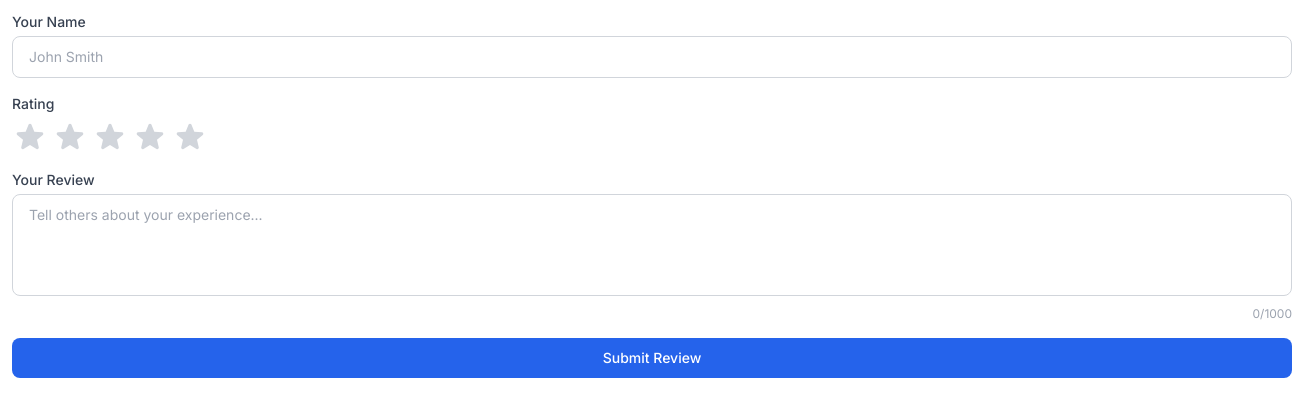
Test case: TestimonialForm › selects rating when star is clicked
Step 1. Click the button named "Rate 4 stars" → (150, 136), box [132,118,168,154]
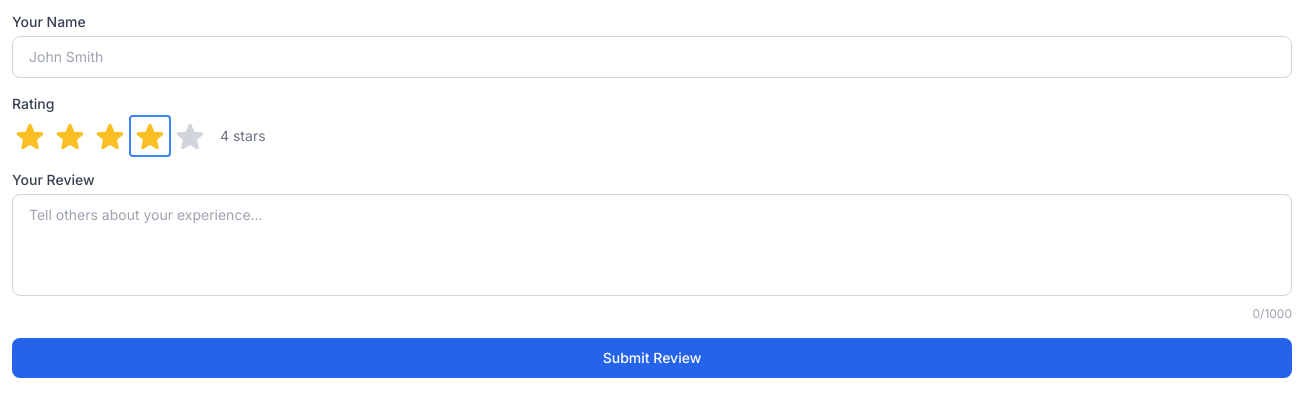
Check: the text "4 stars" is shown, box [220,126,266,146]
